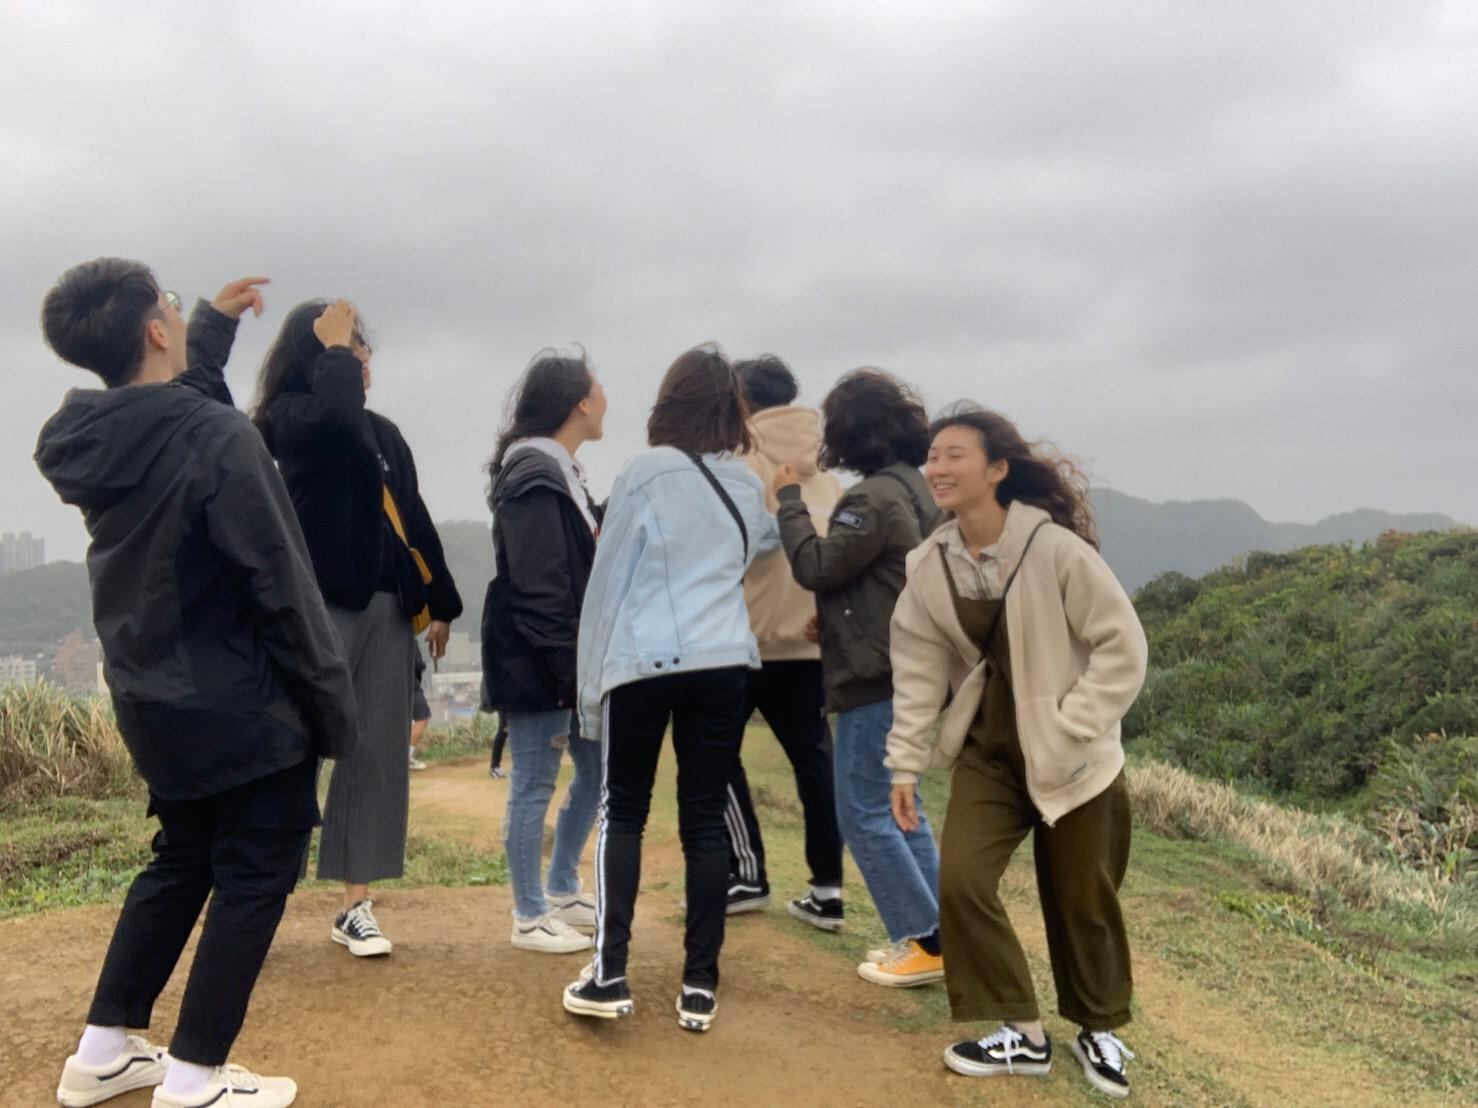people: (46, 261, 290, 1108), (919, 411, 1138, 1102), (600, 327, 748, 1021), (271, 305, 423, 971), (815, 361, 958, 984), (498, 348, 627, 944), (727, 357, 844, 934)
